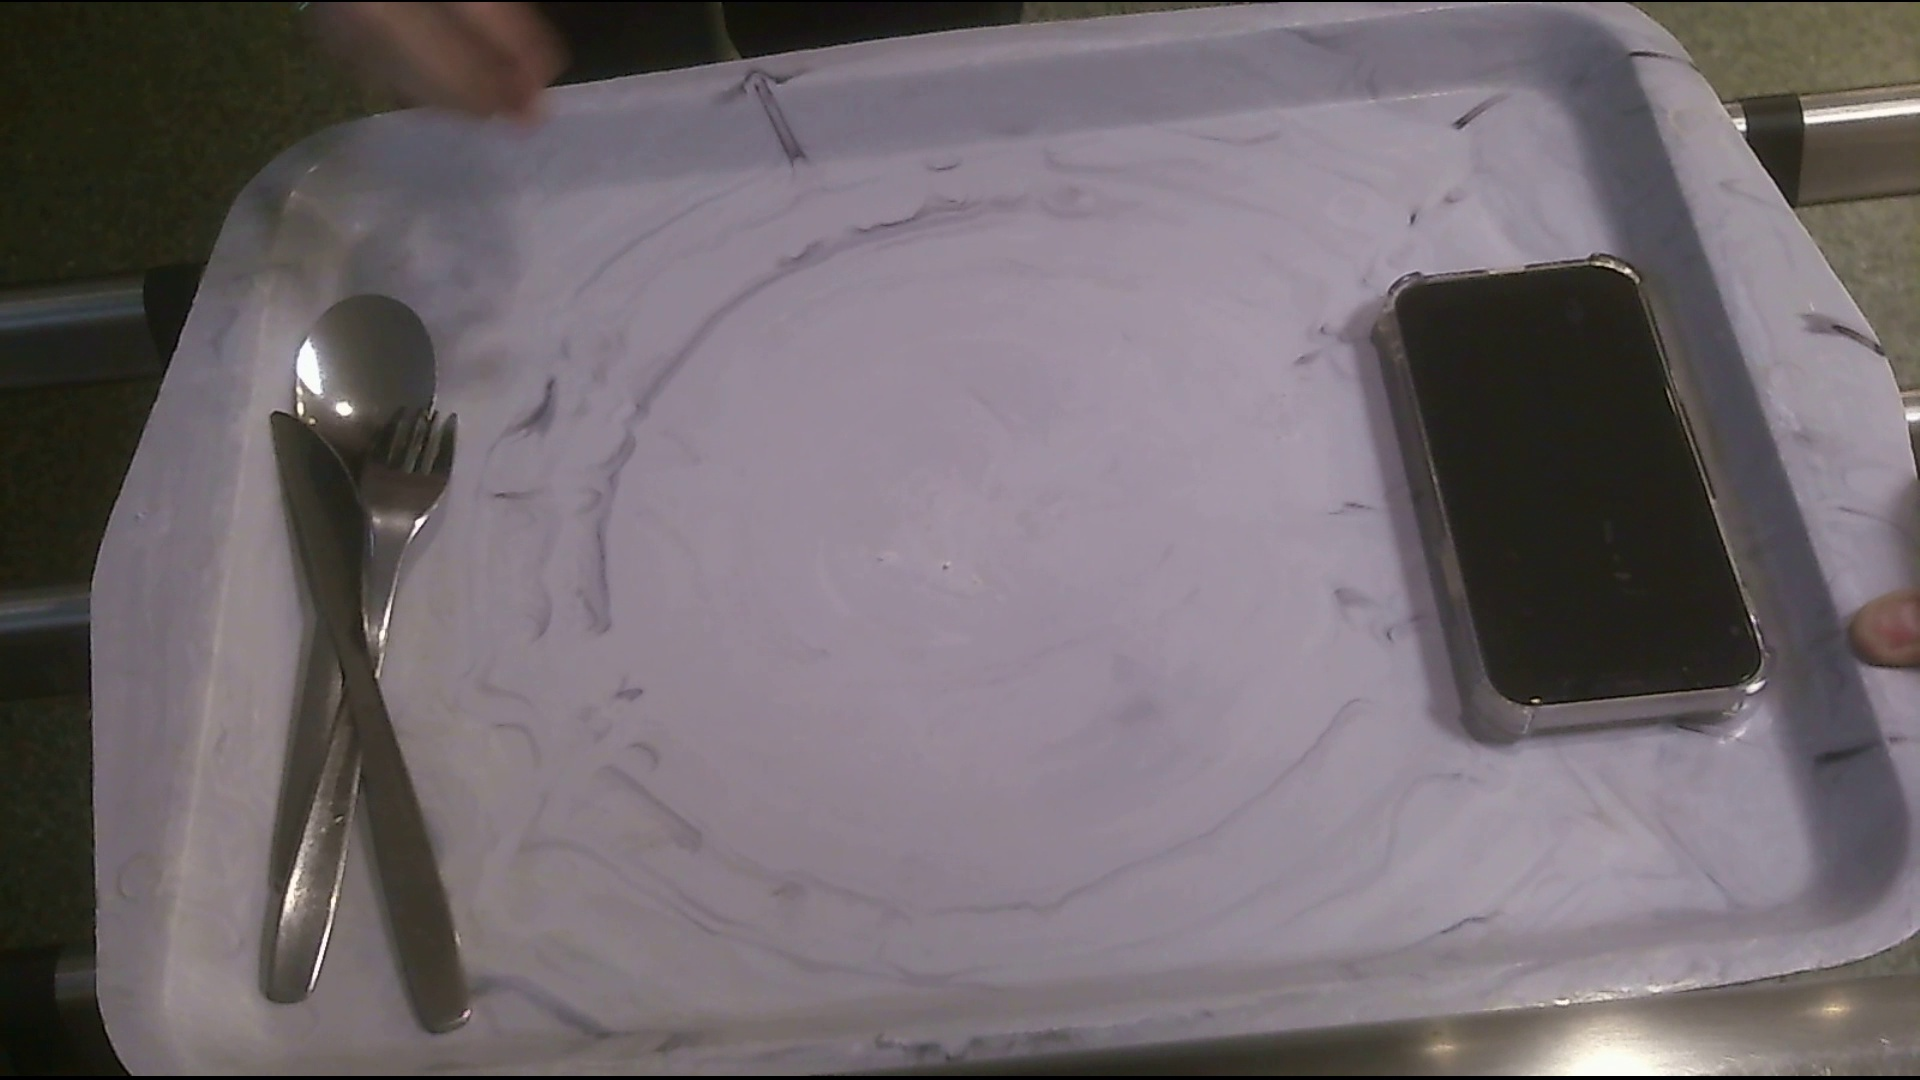cutlery: (262, 287, 492, 1047)
other: (1382, 258, 1772, 742)
